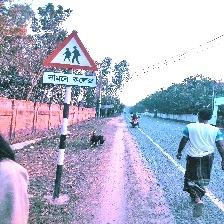College-in-front: (39, 28, 104, 92)
